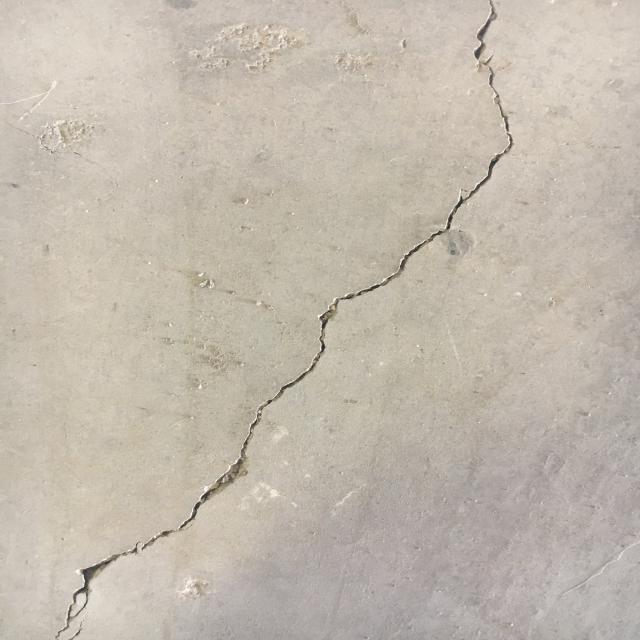Rachadura: (46, 0, 523, 640)
